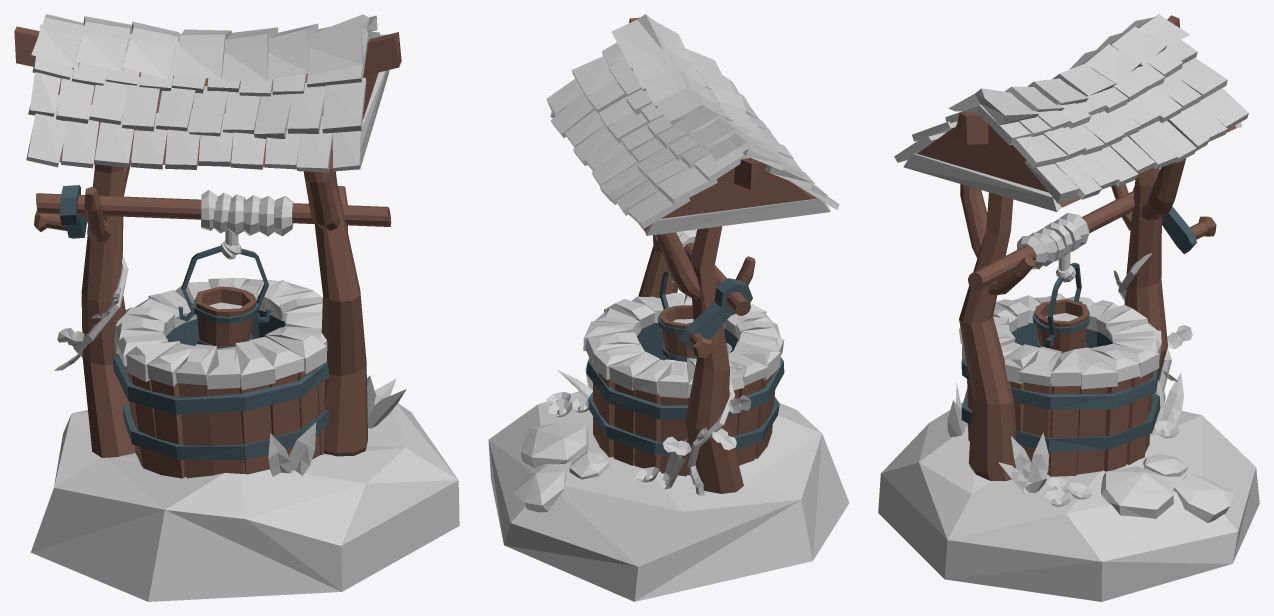
Rendered from puis.obj.
The picture shows the model from 3 angles, left to right: view 1: azimuth 30°, elevation 25°; view 2: azimuth 150°, elevation 25°; view 3: azimuth 270°, elevation 25°; orthographic projection. The views are drawn at different scales.
Visible parts, largest first — view 1: group1293293119, group1784896143, group1816269119, group1378999907, group1463751419, group712474116, group784225283, group819284552, group904038137, group543979763, group1636832775, group156962315 (+36 smaller); view 2: group1293293119, group1784896143, group1378999907, group1984699503, group644428560, group784225283, group511529357, group464703084, group1463751419, group156962315, group904038137, group543979763 (+26 smaller); view 3: group1293293119, group1784896143, group1816269119, group1984699503, group1378999907, group644428560, group1463751419, group712474116, group464703084, group784225283, group819284552, group1636832775 (+34 smaller).
Part boxes in pixels (x1,y1,x2,y2): group1293293119: [30, 403, 459, 601]; group1784896143: [112, 278, 329, 478]; group1816269119: [303, 169, 367, 456]; group1378999907: [81, 164, 135, 457]; group1463751419: [178, 245, 271, 348]; group712474116: [36, 193, 391, 226]; group784225283: [308, 14, 377, 75]; group819284552: [122, 21, 179, 79]; group904038137: [173, 29, 231, 79]; group543979763: [222, 27, 278, 81]; group1636832775: [75, 16, 131, 72]; group156962315: [264, 23, 318, 80]; group1293293119: [488, 391, 849, 601]; group1784896143: [583, 293, 784, 476]; group1378999907: [656, 226, 755, 493]; group1984699503: [550, 111, 830, 235]; group644428560: [520, 422, 588, 468]; group784225283: [611, 14, 693, 70]; group511529357: [679, 278, 752, 352]; group464703084: [514, 464, 567, 512]; group1463751419: [658, 270, 696, 361]; group156962315: [629, 48, 704, 90]; group904038137: [655, 86, 733, 124]; group543979763: [642, 67, 715, 108]; group1293293119: [878, 402, 1259, 601]; group1784896143: [959, 293, 1161, 476]; group1816269119: [959, 184, 1034, 480]; group1984699503: [903, 122, 1241, 211]; group1378999907: [1111, 158, 1186, 379]; group644428560: [1101, 466, 1173, 518]; group1463751419: [1032, 262, 1089, 352]; group712474116: [968, 190, 1134, 289]; group464703084: [1173, 473, 1233, 522]; group784225283: [948, 88, 1038, 124]; group819284552: [1069, 44, 1141, 84]; group1636832775: [1096, 26, 1167, 66].
Bounding box in the file's own units: 0.4501 × 0.5819 × 0.4214.
